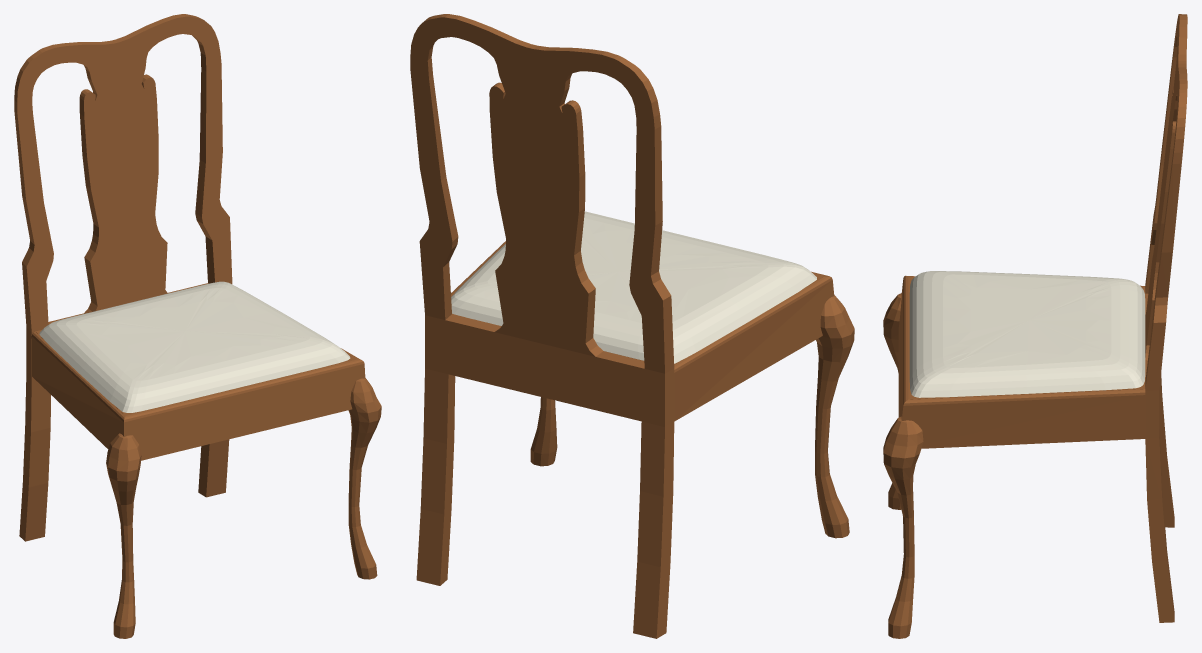
The model's file is chair-by-cmht-oculus-e4T8cpEvCPh.glb.
The picture shows the model from 3 angles, left to right: view 1: azimuth 30°, elevation 25°; view 2: azimuth 150°, elevation 25°; view 3: azimuth 270°, elevation 25°; orthographic projection. The views are drawn at different scales.
Parts seen in each view (by area): view 1: Node; view 2: Node; view 3: Node.
Boxes of the visible parts, x1,y1,x2,y2 form: Node: (14, 14, 381, 638); Node: (410, 14, 854, 638); Node: (883, 14, 1187, 638).
Bounding box in the file's own units: 22.5 × 37.92 × 20.18.
